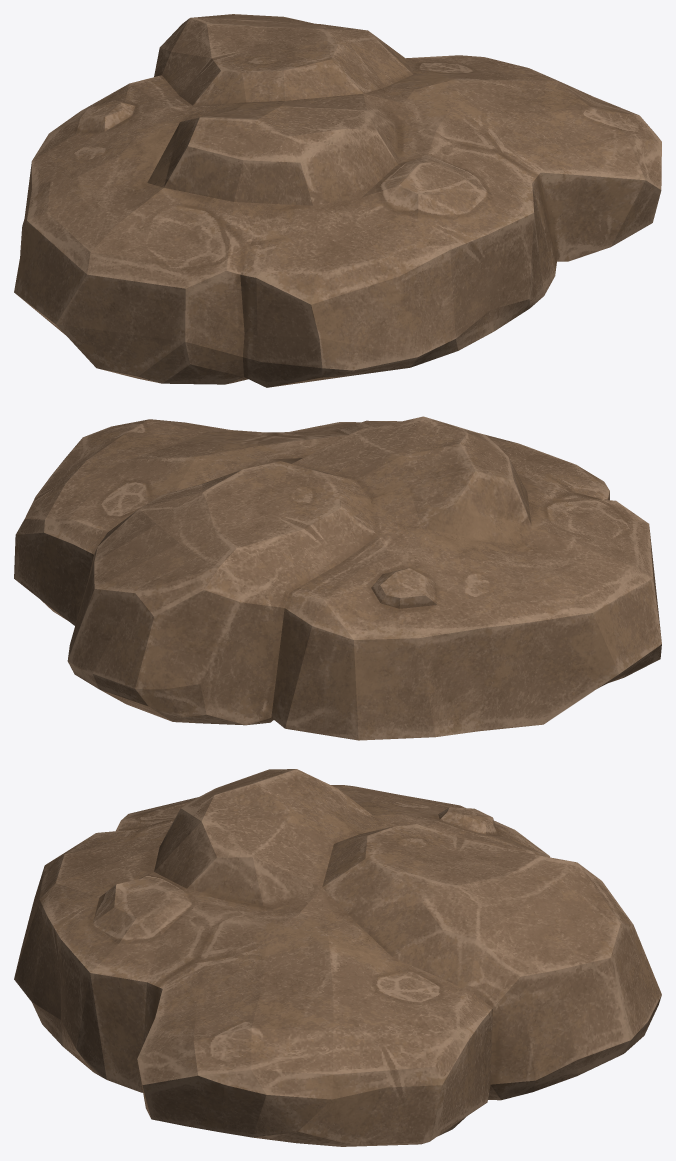
Rendered from sb_obj_nature007_Rock01f.fbx.
The picture shows the model from 3 angles, top to bottom: view 1: azimuth 30°, elevation 25°; view 2: azimuth 150°, elevation 25°; view 3: azimuth 270°, elevation 25°; orthographic projection. The views are drawn at different scales.
Visible parts, largest first — view 1: sb_obj_nature007_Rock01f; view 2: sb_obj_nature007_Rock01f; view 3: sb_obj_nature007_Rock01f.
Part boxes in pixels (x1,y1,x2,y2): sb_obj_nature007_Rock01f: (14, 14, 661, 387); sb_obj_nature007_Rock01f: (14, 416, 661, 740); sb_obj_nature007_Rock01f: (14, 769, 661, 1146).
Size of the model in its own units: 4.46 by 1.54 by 4.03.
